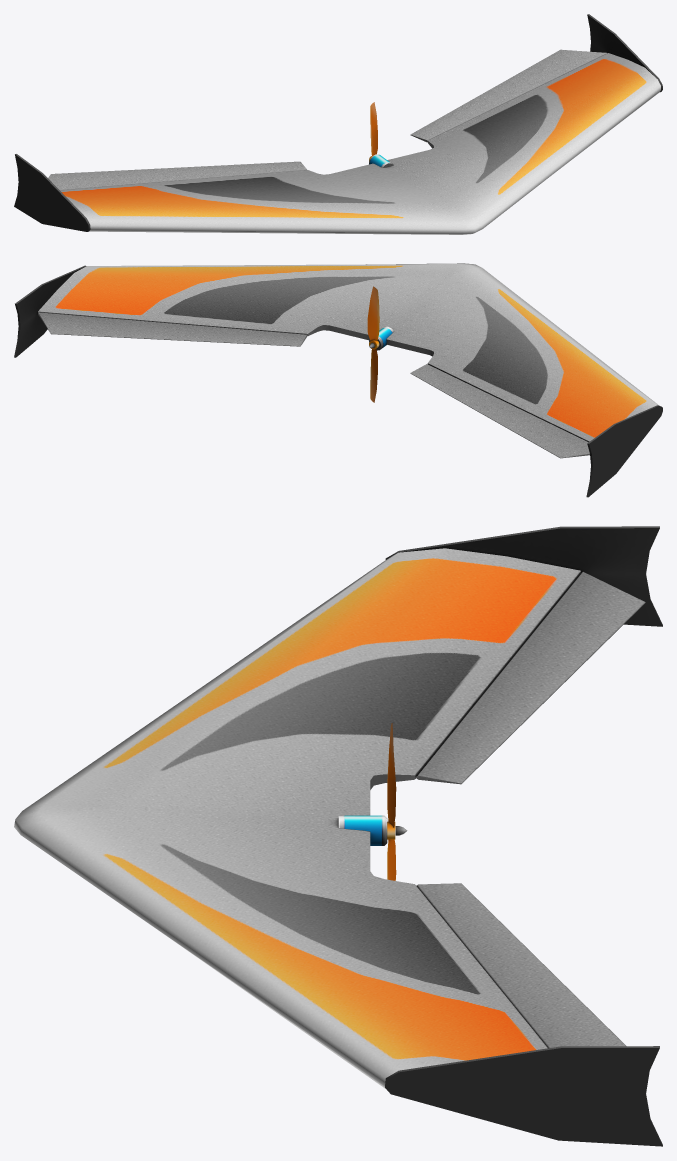
Rendered from wing.dae.
3 renders of one model, top to bottom at view 1: azimuth 30°, elevation 25°; view 2: azimuth 150°, elevation 25°; view 3: azimuth 270°, elevation 25°, orthographic. The views are drawn at different scales.
Visible parts, largest first — view 1: Wing, Flap_Left, Flap_Right, Propeller; view 2: Wing, Flap_Left, Flap_Right, Propeller; view 3: Wing, Flap_Right, Flap_Left, Propeller.
Boxes of the visible parts, <box> form: Wing: <box>14,14,662,234</box>; Flap_Left: <box>410,49,607,142</box>; Flap_Right: <box>48,161,306,190</box>; Propeller: <box>369,102,377,161</box>; Wing: <box>14,263,662,497</box>; Flap_Left: <box>38,312,307,346</box>; Flap_Right: <box>410,364,589,458</box>; Propeller: <box>367,286,379,402</box>; Wing: <box>14,526,662,1146</box>; Flap_Right: <box>415,572,645,784</box>; Flap_Left: <box>416,883,626,1048</box>; Propeller: <box>387,723,396,880</box>.
Bounding box in the file's own units: 1534 × 807 × 297.
1 material, 1 textured.
